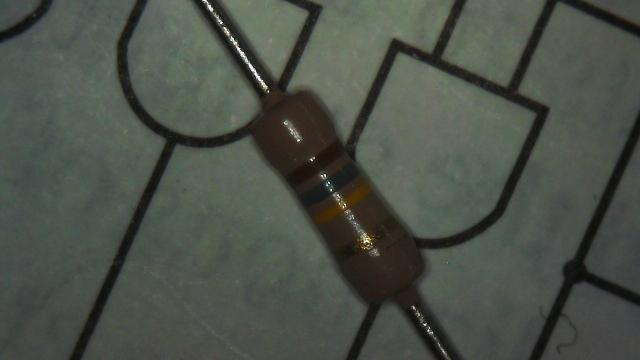brown: (284, 140, 344, 188)
gold: (335, 218, 398, 262)
grey: (298, 163, 359, 208)
resistor: (216, 60, 461, 335)
yellow: (313, 182, 374, 226)
